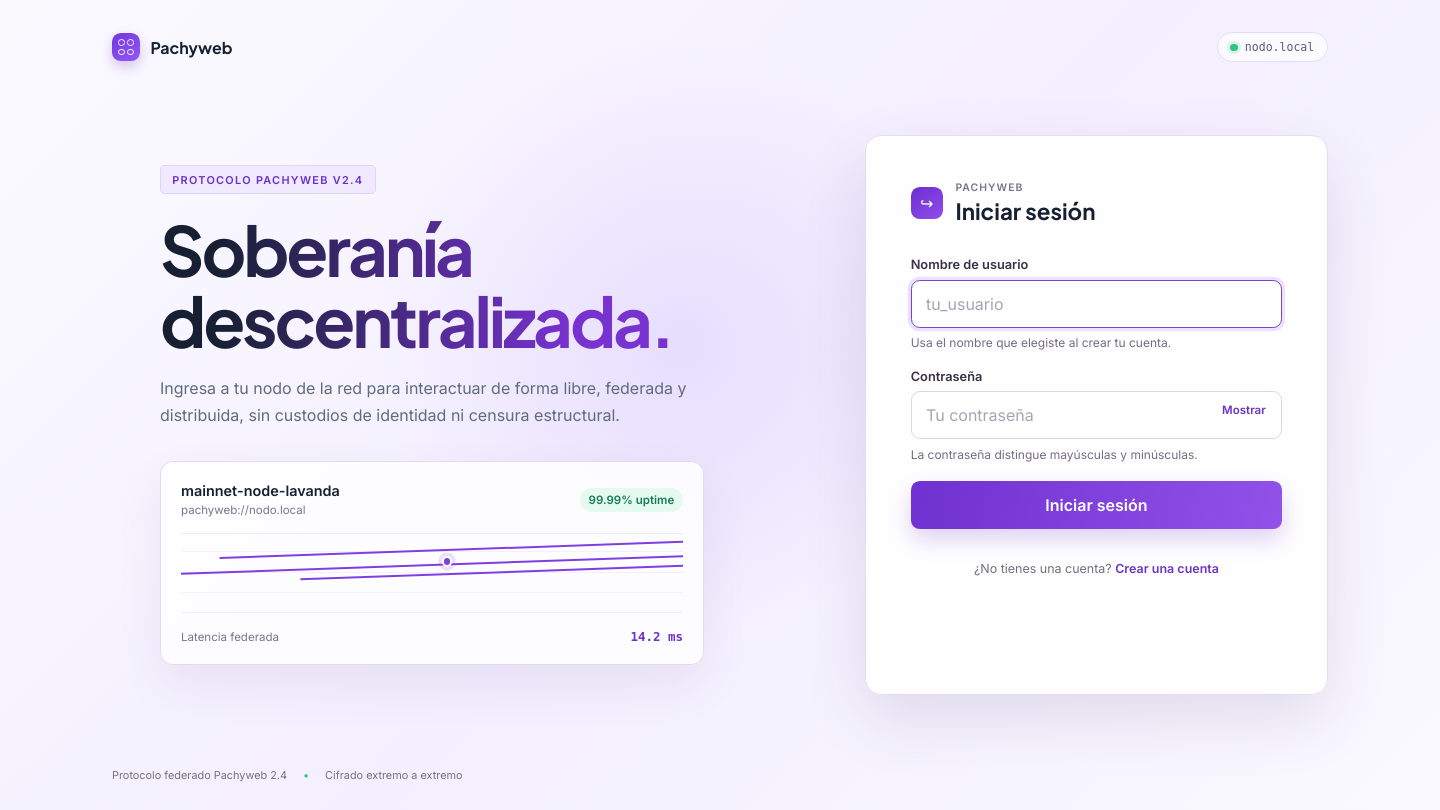
Scenario: inicio de sesión › muestra un error específico para credenciales incorrectas
In the field labelled "Nombre de usuario": (1096, 304) left=911, top=280, right=1282, bottom=328, type "oscar"
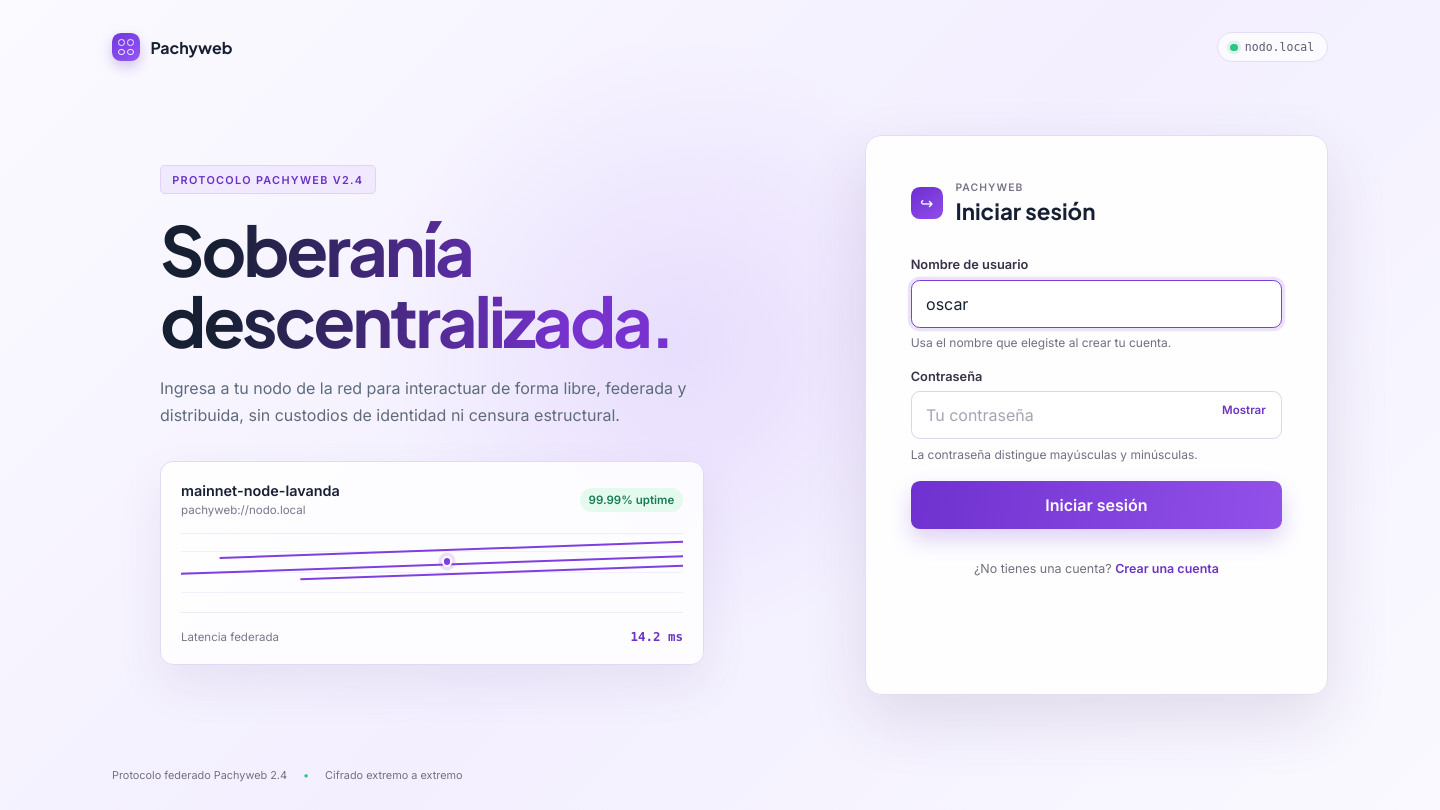
In the password field labelled "Contraseña": (1096, 415) left=911, top=391, right=1282, bottom=439, type "password123"
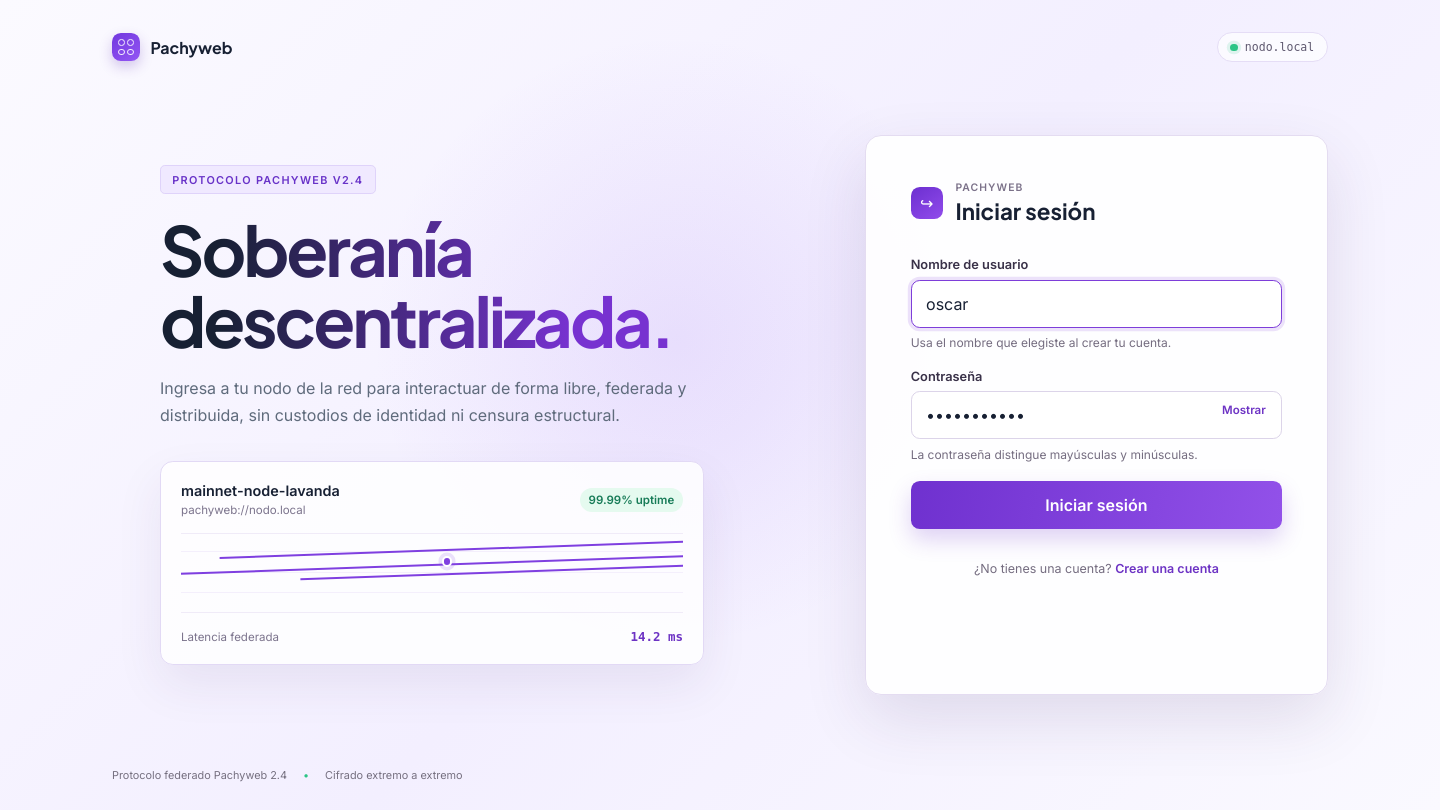
Click the button "Iniciar sesión": (1096, 505) left=911, top=481, right=1282, bottom=529
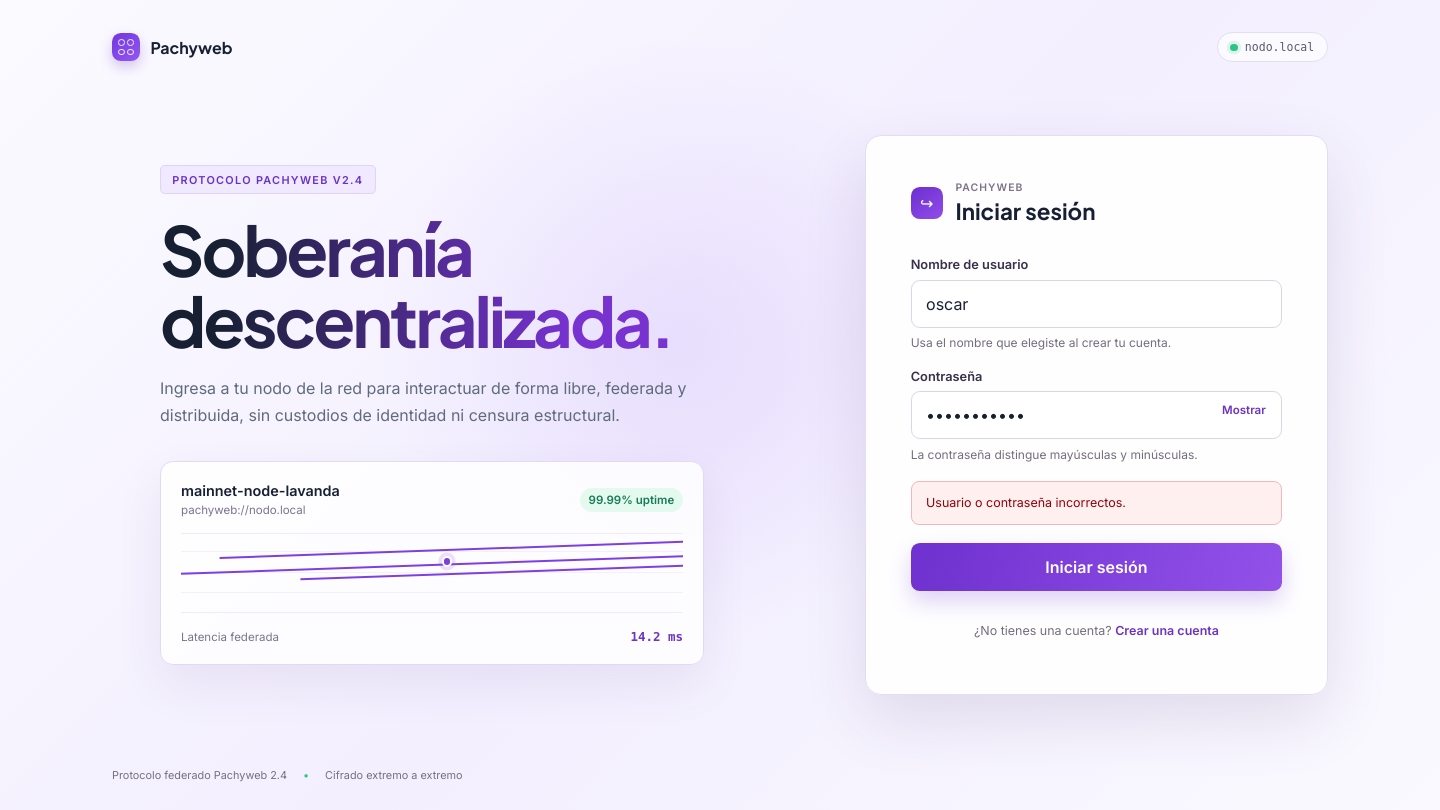
Check: the message reads "Usuario o contraseña incorrectos.", box left=926, top=495, right=1126, bottom=510
